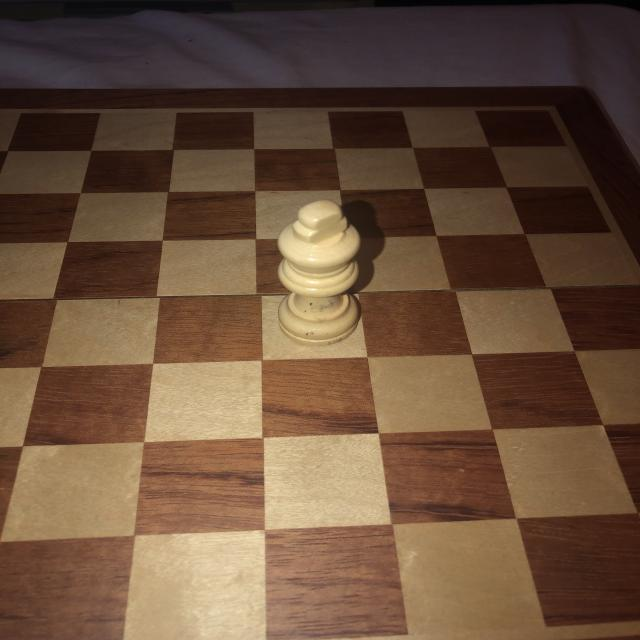white_king: (274, 198, 366, 346)
